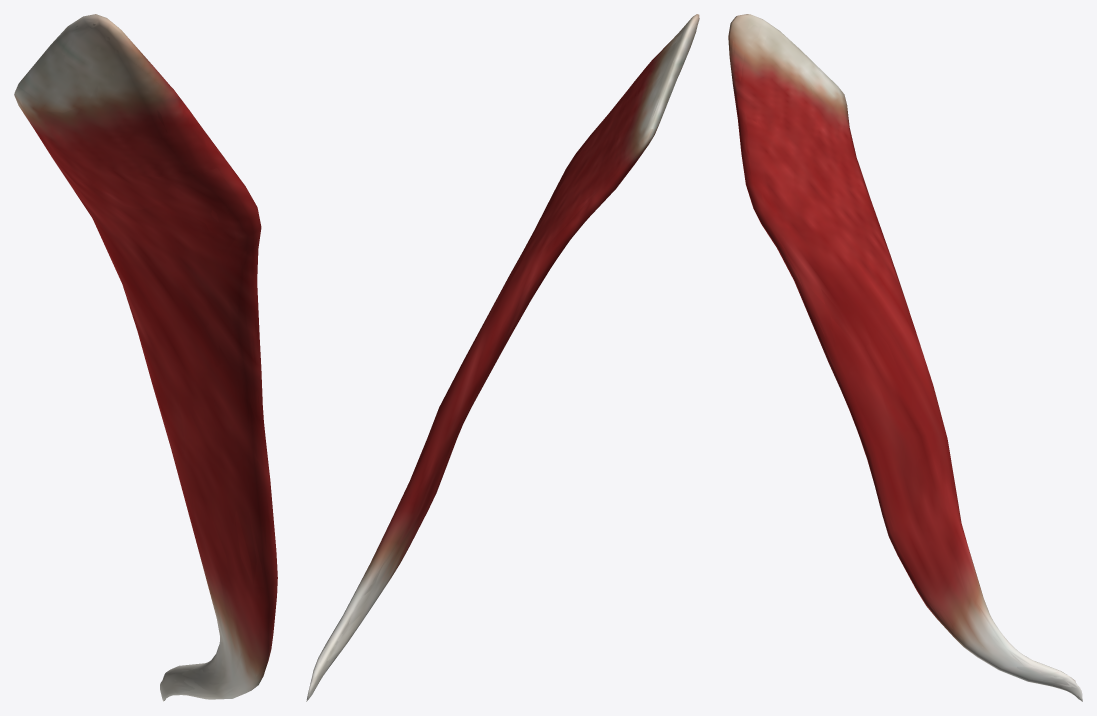
Rendered from L Pectoralis Descendens.fbx.
The picture shows the model from 3 angles, left to right: view 1: azimuth 30°, elevation 25°; view 2: azimuth 150°, elevation 25°; view 3: azimuth 270°, elevation 25°; orthographic projection. The views are drawn at different scales.
Visible parts, largest first — view 1: L Pectoralis Descendens, L Pectoralis Descendens low, L Pectoralis Descendens high; view 2: L Pectoralis Descendens, L Pectoralis Descendens low, L Pectoralis Descendens high; view 3: L Pectoralis Descendens, L Pectoralis Descendens low, L Pectoralis Descendens high.
Boxes of the visible parts, box(x1,y1,x2,y2) form: L Pectoralis Descendens: box(14, 14, 277, 701); L Pectoralis Descendens low: box(14, 16, 266, 698); L Pectoralis Descendens high: box(39, 17, 274, 696); L Pectoralis Descendens: box(306, 14, 699, 701); L Pectoralis Descendens low: box(306, 15, 698, 701); L Pectoralis Descendens high: box(310, 23, 696, 685); L Pectoralis Descendens: box(728, 14, 1082, 701); L Pectoralis Descendens low: box(729, 15, 1081, 700); L Pectoralis Descendens high: box(732, 15, 1081, 699).
Size of the model in its own units: 2.52 by 6.5 by 3.56.
